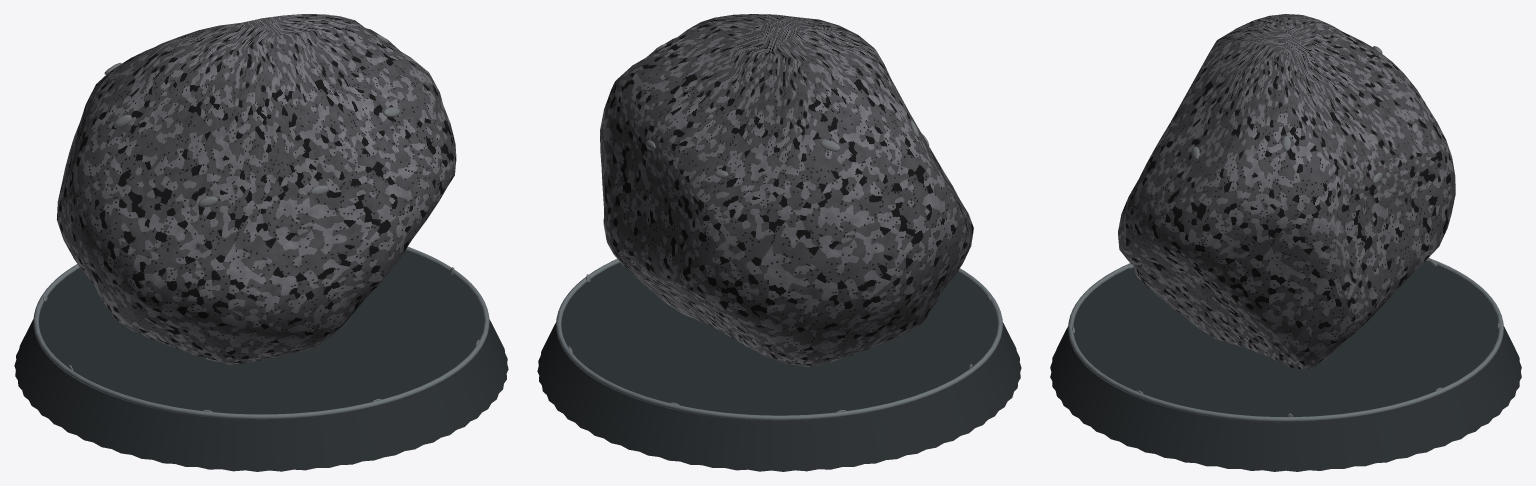
3 renders of one model, left to right at view 1: azimuth 30°, elevation 25°; view 2: azimuth 150°, elevation 25°; view 3: azimuth 270°, elevation 25°, orthographic. The views are drawn at different scales.
Parts seen in each view (by area): view 1: surface specimen, neutral specimen stand, specimen edge, turned rim; view 2: surface specimen, neutral specimen stand, specimen edge, turned rim; view 3: surface specimen, neutral specimen stand, specimen edge.
Part boxes in pixels (bbox=[...]): surface specimen: bbox=[56, 14, 456, 364]; neutral specimen stand: bbox=[14, 250, 508, 471]; specimen edge: bbox=[33, 247, 489, 419]; turned rim: bbox=[104, 34, 400, 207]; surface specimen: bbox=[600, 14, 973, 367]; neutral specimen stand: bbox=[537, 262, 1021, 471]; specimen edge: bbox=[556, 259, 1002, 420]; turned rim: bbox=[645, 44, 929, 177]; surface specimen: bbox=[1118, 14, 1455, 368]; neutral specimen stand: bbox=[1050, 261, 1521, 471]; specimen edge: bbox=[1068, 258, 1503, 422].
Bounding box in the file's own units: 0.539 × 0.4214 × 0.539.
Materials: 4 (1 with a texture image).
